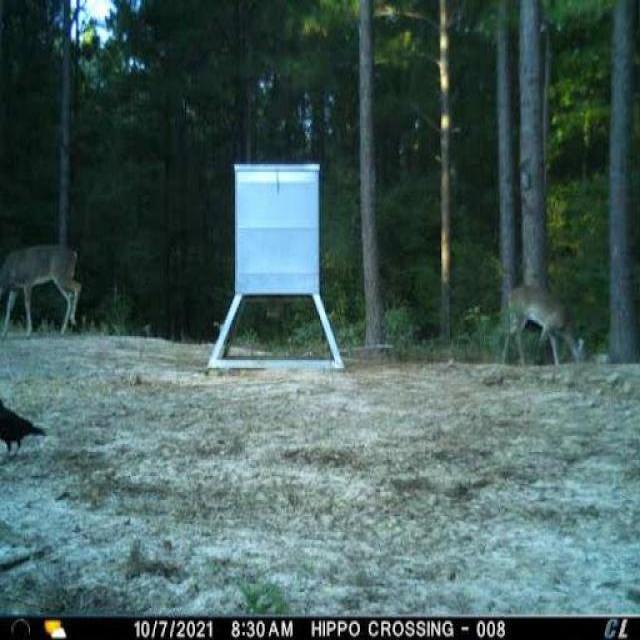deer: (497, 275, 592, 378), (0, 235, 91, 337)
